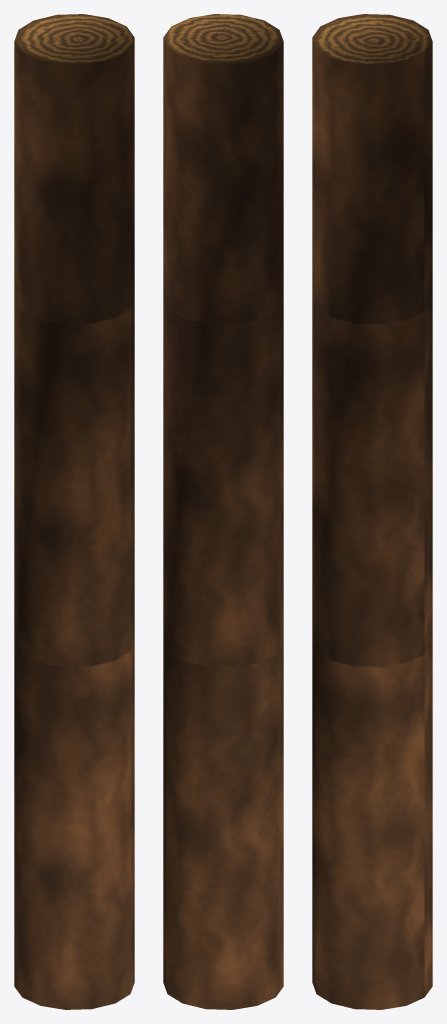
The model's file is log_picket.glb.
3 renders of one model, left to right at view 1: azimuth 30°, elevation 25°; view 2: azimuth 150°, elevation 25°; view 3: azimuth 330°, elevation 25°, orthographic.
Parts seen in each view (by area): view 1: log_picket; view 2: log_picket; view 3: log_picket.
Boxes of the visible parts, x1=… form: log_picket: x1=14, y1=14, x2=134, y2=1009; log_picket: x1=163, y1=14, x2=283, y2=1009; log_picket: x1=312, y1=14, x2=432, y2=1009.
Size of the model in its own units: 0.15 by 1.3 by 0.1462.
2 materials, 2 textured.
